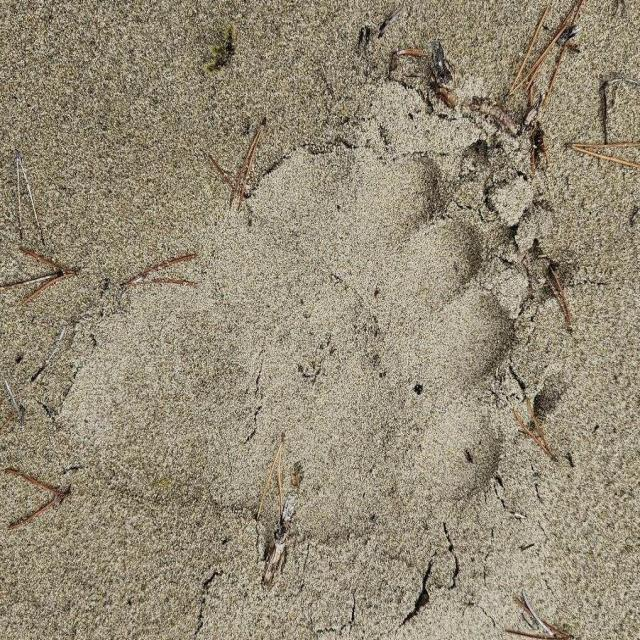bear: (91, 154, 507, 513)
